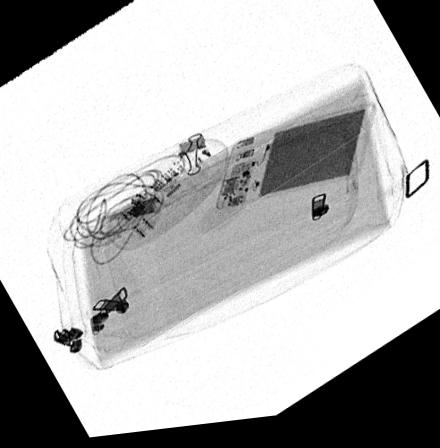Powerbank: (214, 111, 378, 216)
